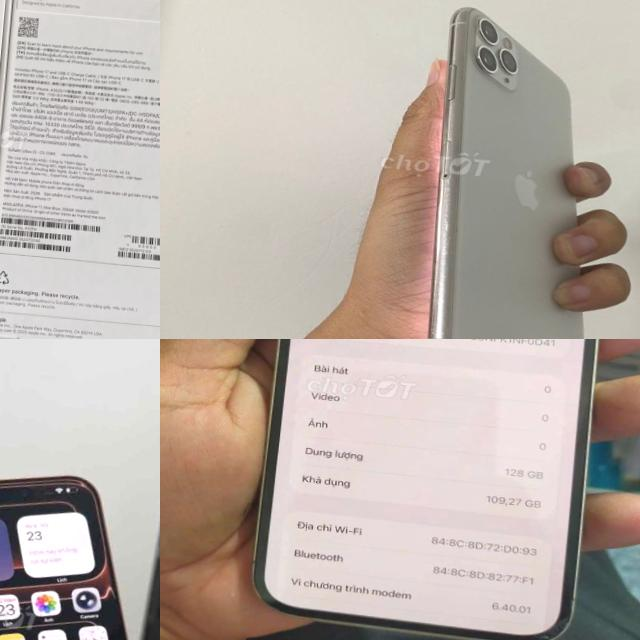gen_11: (393, 0, 626, 339)
gen_12_13: (251, 339, 618, 640)
gen_17: (0, 461, 160, 640)
